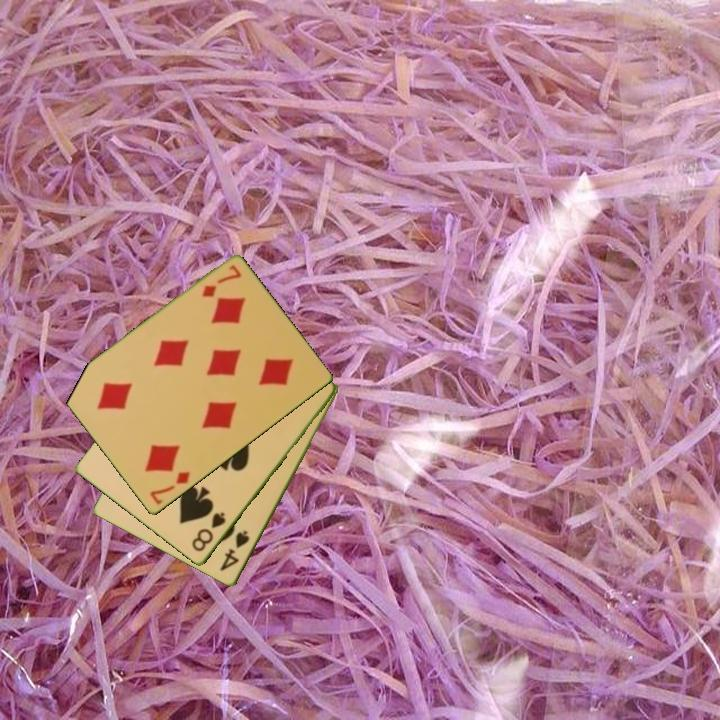4s: (216, 527, 253, 575)
7d: (147, 468, 193, 508), (198, 261, 244, 301)
8s: (188, 508, 229, 555)
